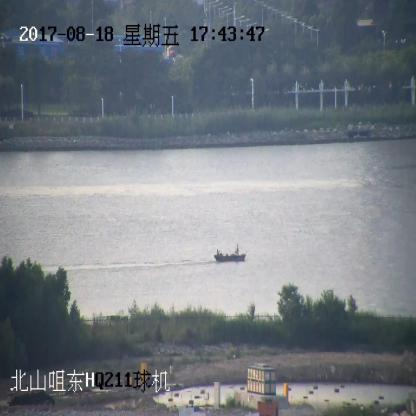Fishing Boat: (214, 245, 246, 262)
